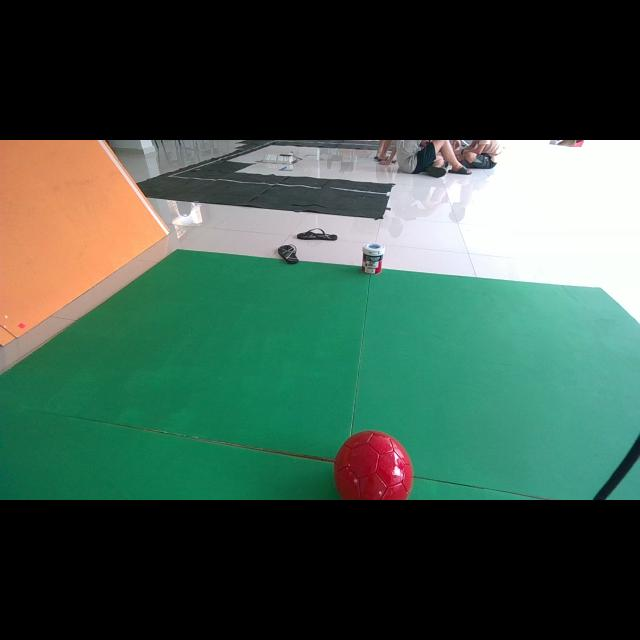R: (334, 431, 414, 500)
